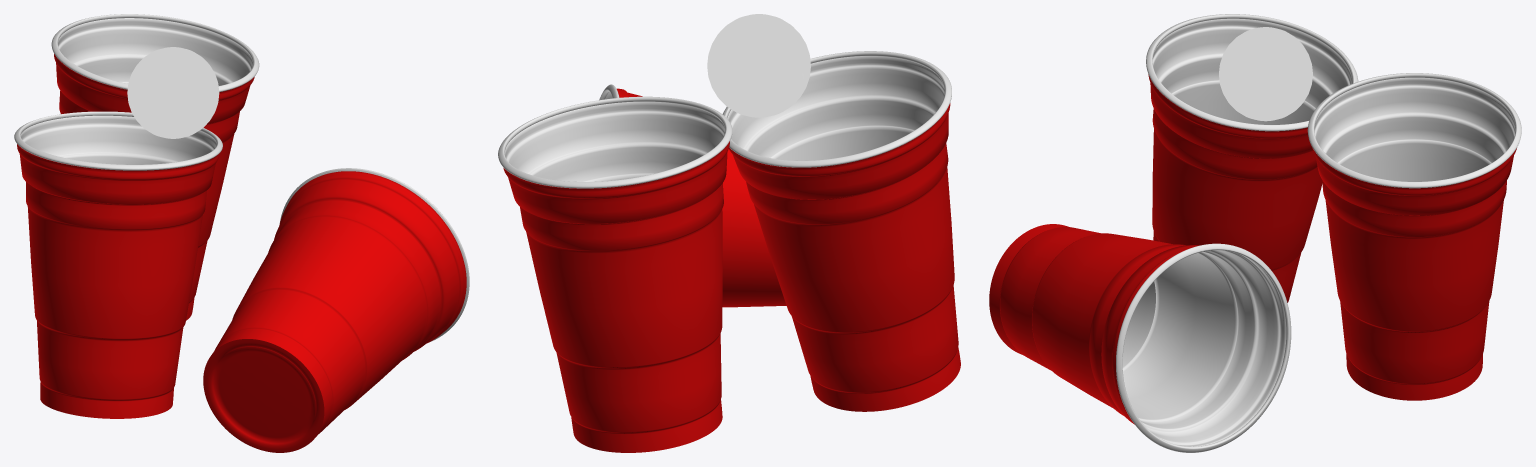
File: team.glb
3 views of the same model, side by side, from view 1: azimuth 30°, elevation 25°; view 2: azimuth 150°, elevation 25°; view 3: azimuth 270°, elevation 25° (orthographic). The views are drawn at different scales.
Parts seen in each view (by area): view 1: RedCup_1.001, Object_8, Object_9, Pong_2; view 2: RedCup_1.001, Object_8, Object_9, Pong_2; view 3: RedCup_1.001, Object_8, Object_9, Pong_2.
Boxes of the visible parts, bbox=[...] form: RedCup_1.001: bbox=[51, 14, 469, 452]; Object_8: bbox=[17, 144, 219, 418]; Object_9: bbox=[14, 111, 222, 170]; Pong_2: bbox=[127, 47, 219, 138]; RedCup_1.001: bbox=[498, 84, 786, 452]; Object_8: bbox=[729, 103, 960, 411]; Object_9: bbox=[722, 51, 951, 167]; Pong_2: bbox=[707, 14, 810, 117]; RedCup_1.001: bbox=[989, 73, 1521, 452]; Object_8: bbox=[1148, 74, 1322, 302]; Object_9: bbox=[1146, 14, 1358, 131]; Pong_2: bbox=[1219, 27, 1312, 121].
Size of the model in its own units: 0.1891 by 0.1544 by 0.2264.
